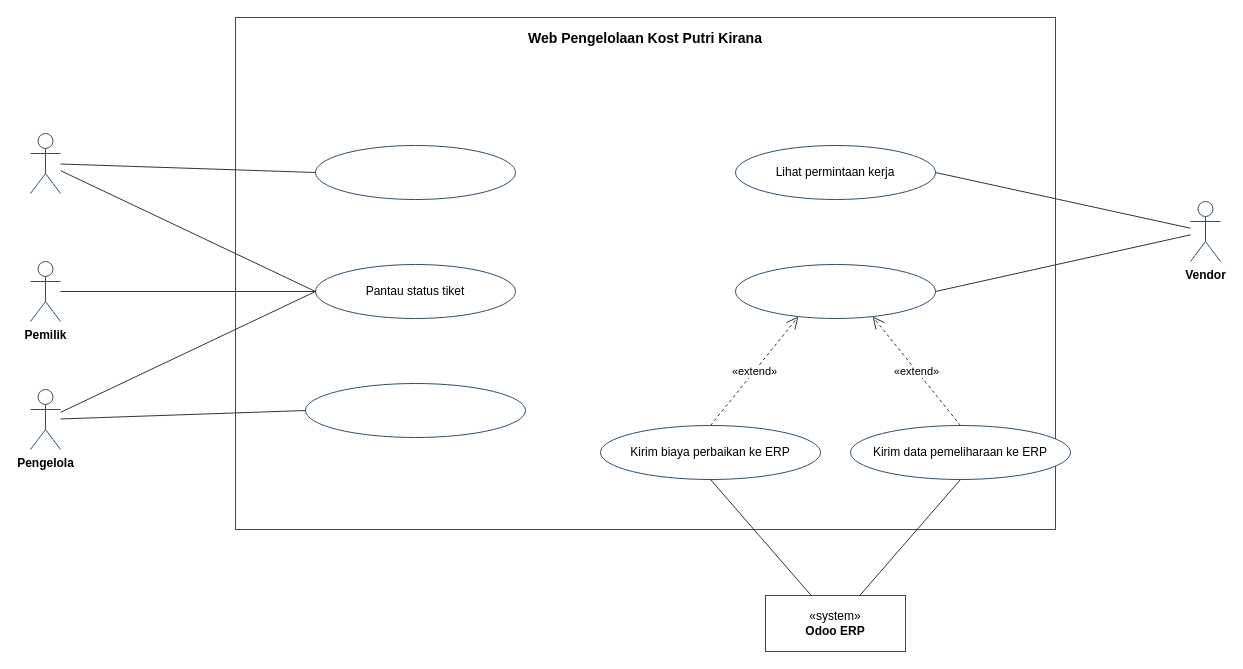
The diagram is 1243 pixels wide and 669 high, and some of its shapes have lost their labels. The shapes that lost their labels are listed below. From the top down, each one's box as (x1, y1, x2, y2) in pixels, then its label:
(30, 132, 60, 194): Penghuni
(314, 144, 516, 200): Ajukan keluhan
(734, 264, 936, 318): Perbarui status dan isi biaya
(304, 382, 526, 438): Tinjau tiket dan tugaskan vendor
